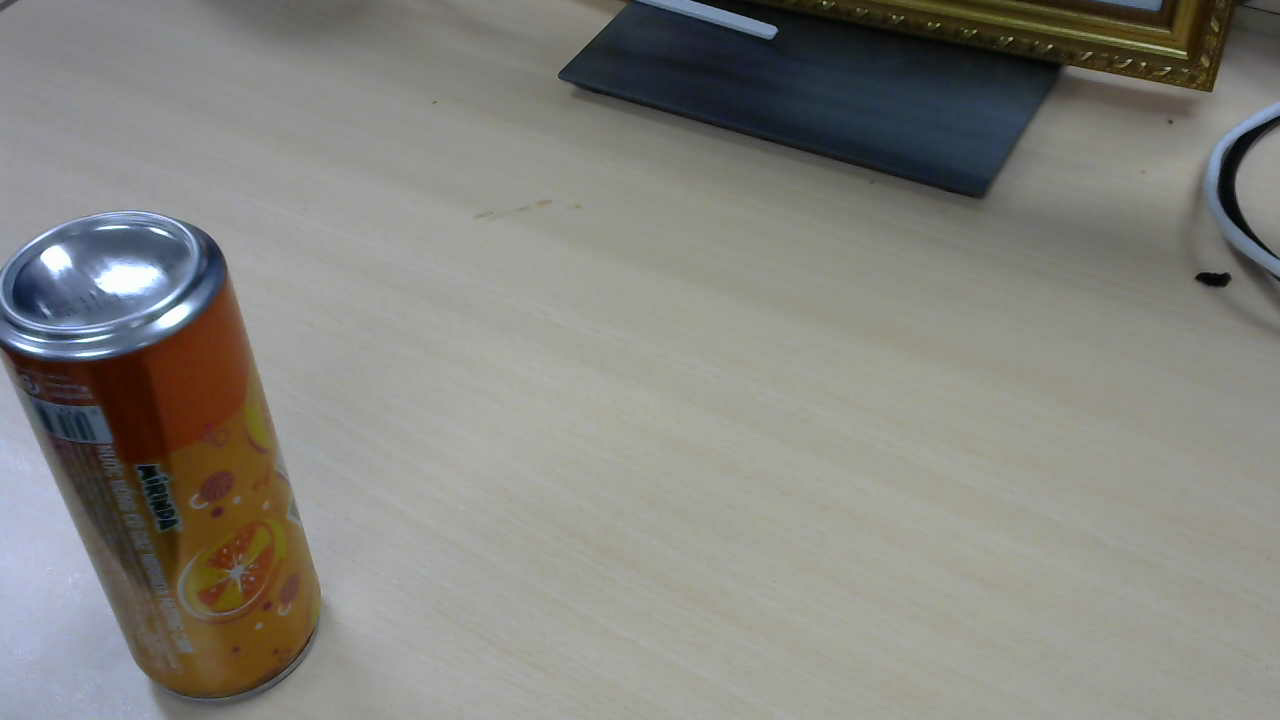Mirinda: (6, 217, 327, 699)
